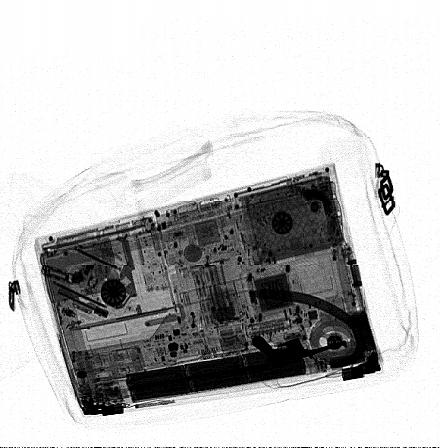Gun: (252, 336, 349, 367)
